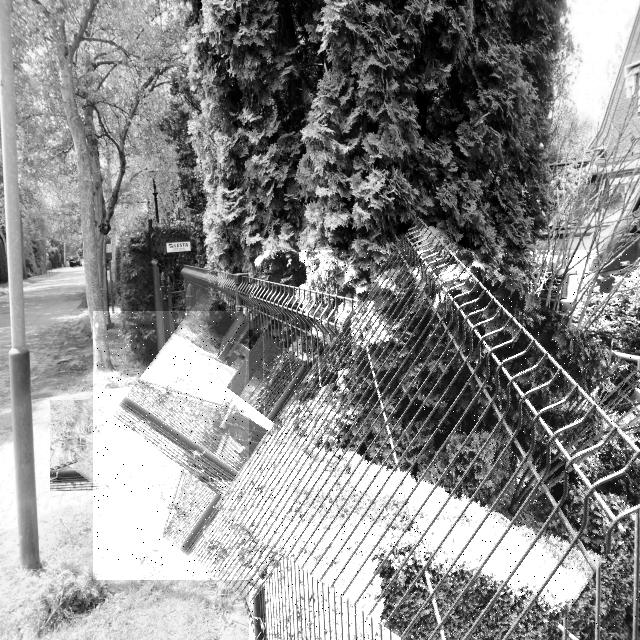fences: (249, 250, 640, 640), (93, 311, 364, 580)
